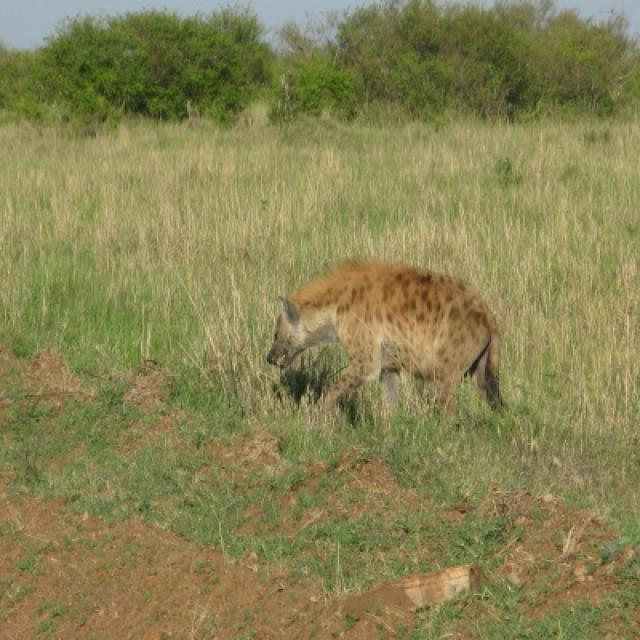hyena: (266, 259, 501, 405)
